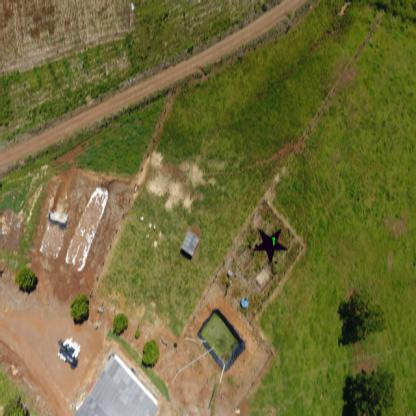1: (270, 236, 278, 248)
star: (250, 226, 289, 265)
